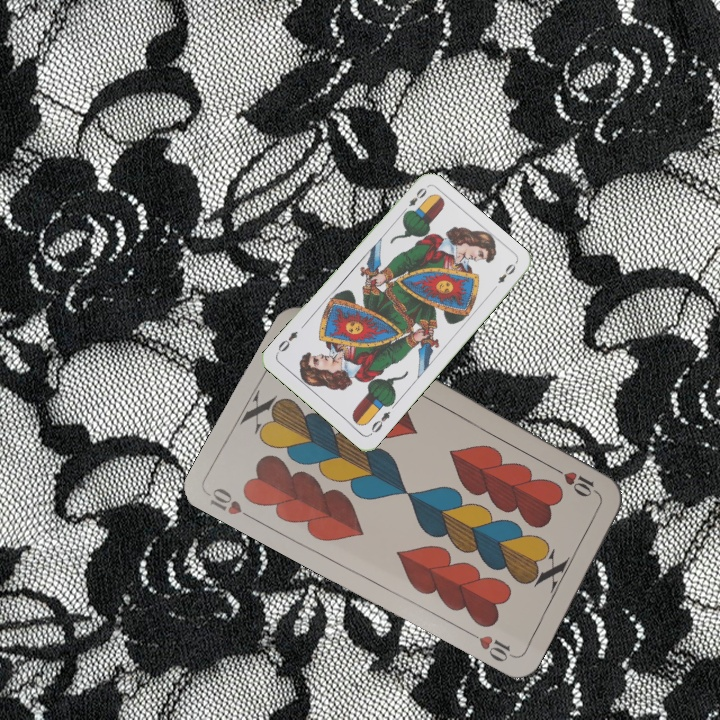EO: (398, 183, 430, 217), (366, 407, 393, 437)
H10: (205, 483, 259, 524), (549, 463, 603, 500)
